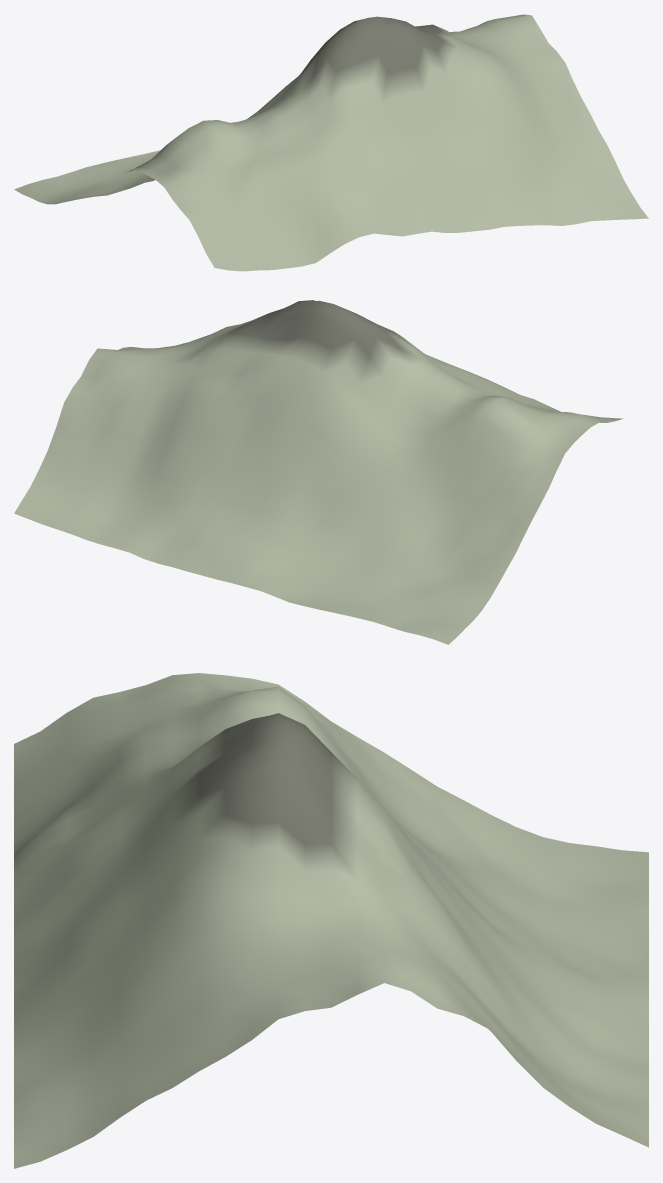
3 views of the same model, one above another, from view 1: azimuth 30°, elevation 25°; view 2: azimuth 150°, elevation 25°; view 3: azimuth 270°, elevation 25° (orthographic). The views are drawn at different scales.
Visible parts, largest first — view 1: world-ground/90-168; view 2: world-ground/90-168; view 3: world-ground/90-168.
Part boxes in pixels (left/top/right/bottom): world-ground/90-168: left=14, top=14, right=648, bottom=271; world-ground/90-168: left=14, top=300, right=623, bottom=644; world-ground/90-168: left=14, top=673, right=648, bottom=1168.
Size of the model in its own units: 37.5 by 16.4 by 30.
